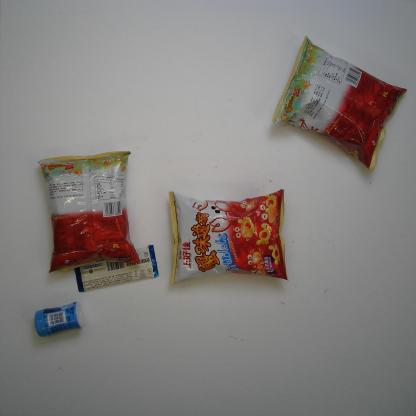Chocolate: (71, 244, 159, 293)
Gum: (32, 299, 86, 337)
Puffed Food: (272, 35, 408, 172), (36, 147, 142, 276), (164, 185, 289, 285)
